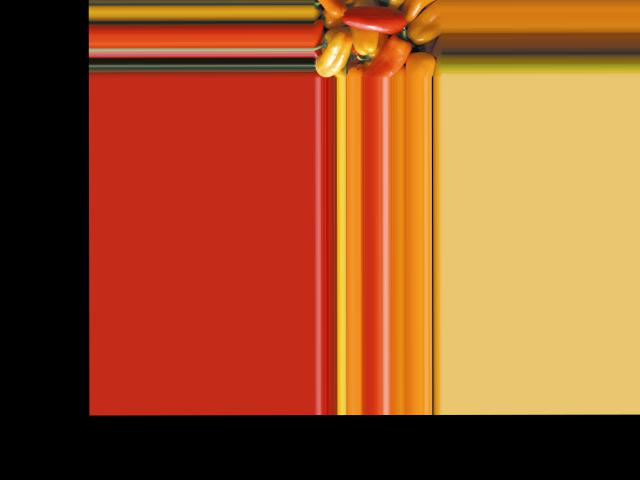bell_pepper: (314, 31, 354, 75)
